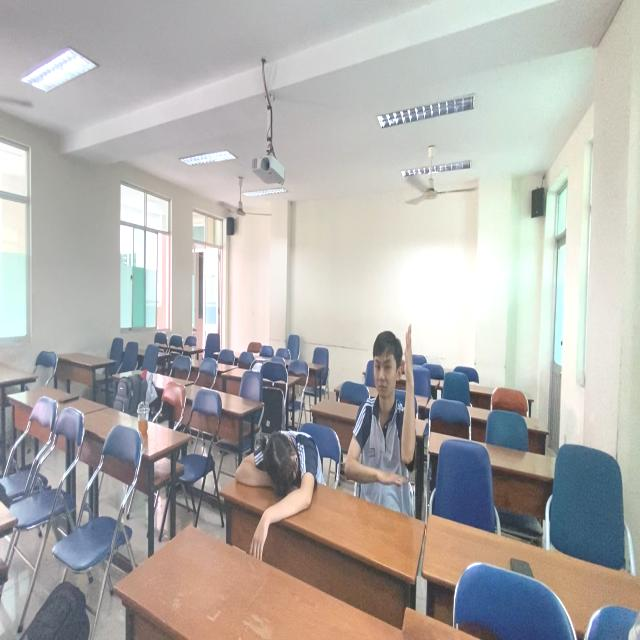raise_hand: (342, 318, 421, 511)
sleep: (233, 423, 332, 509)
